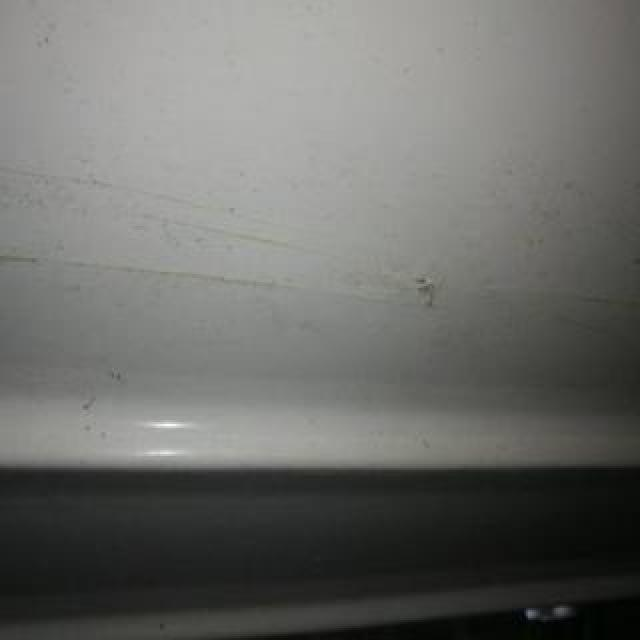crack: (1, 163, 379, 255), (1, 253, 375, 305), (115, 210, 367, 268), (392, 253, 448, 313)
